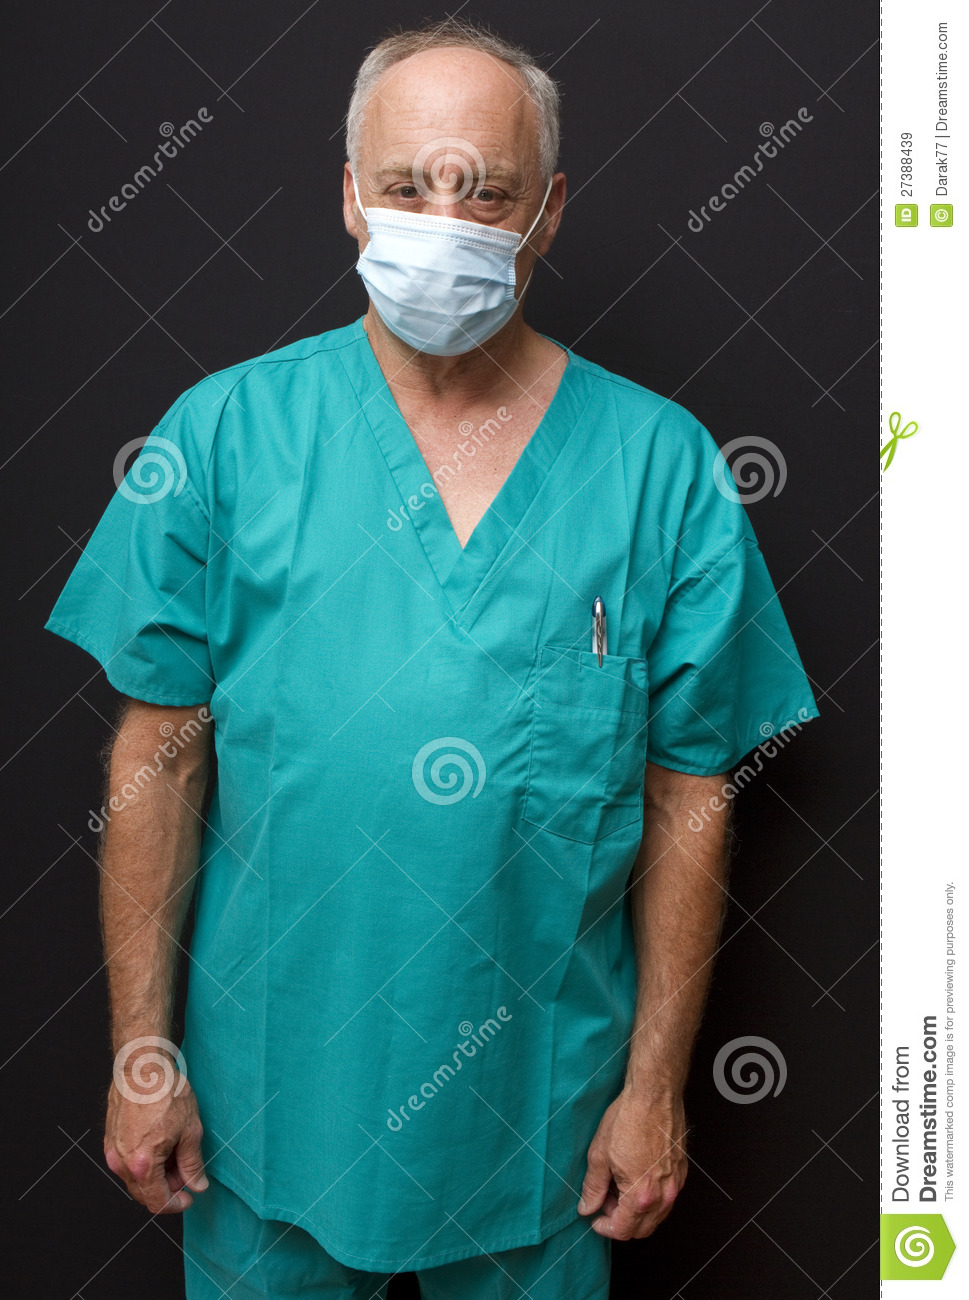mask: (352, 209, 518, 355)
